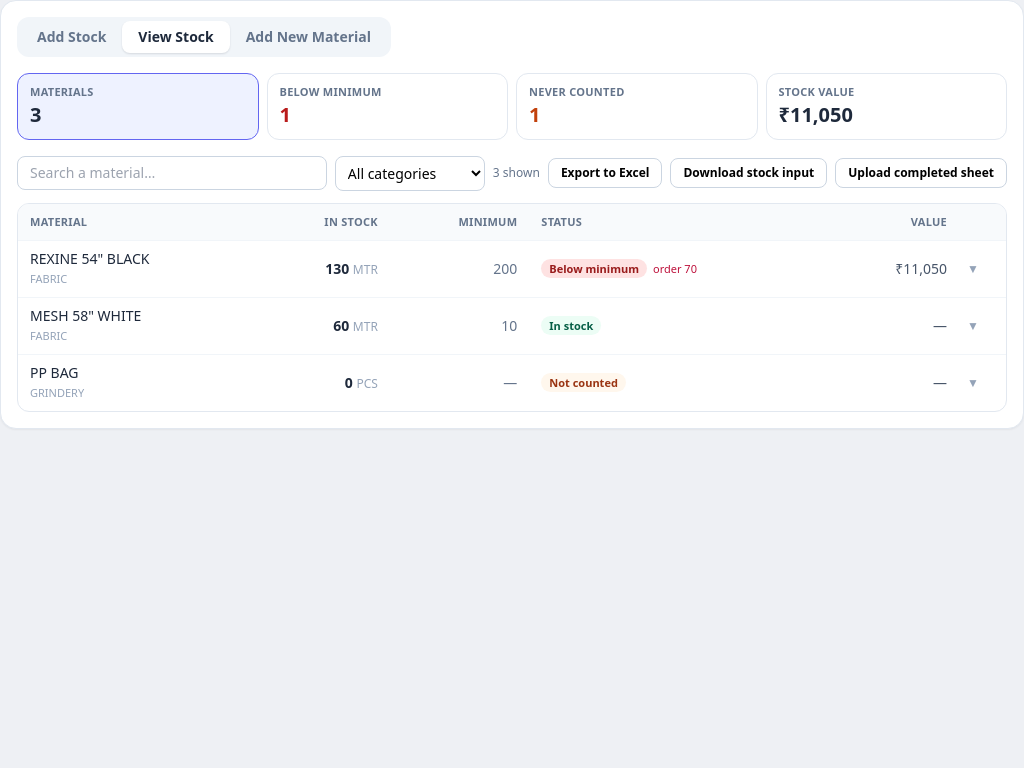
offers to add a material the search cannot find
The image size is (1024, 768).
Step 1. Click the tab "Add Stock" → [72, 37], box [21, 21, 122, 53]
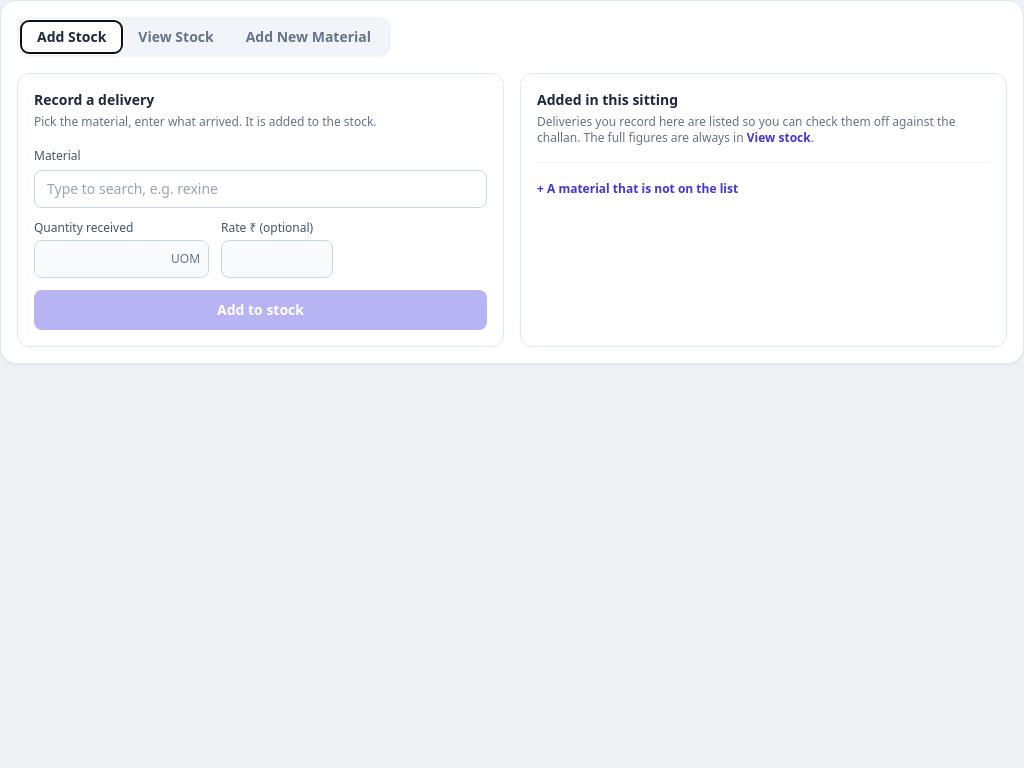
Step 2. Type "velcro 25mm" into the field named "Material to receive" → [260, 189], box [34, 170, 487, 208]
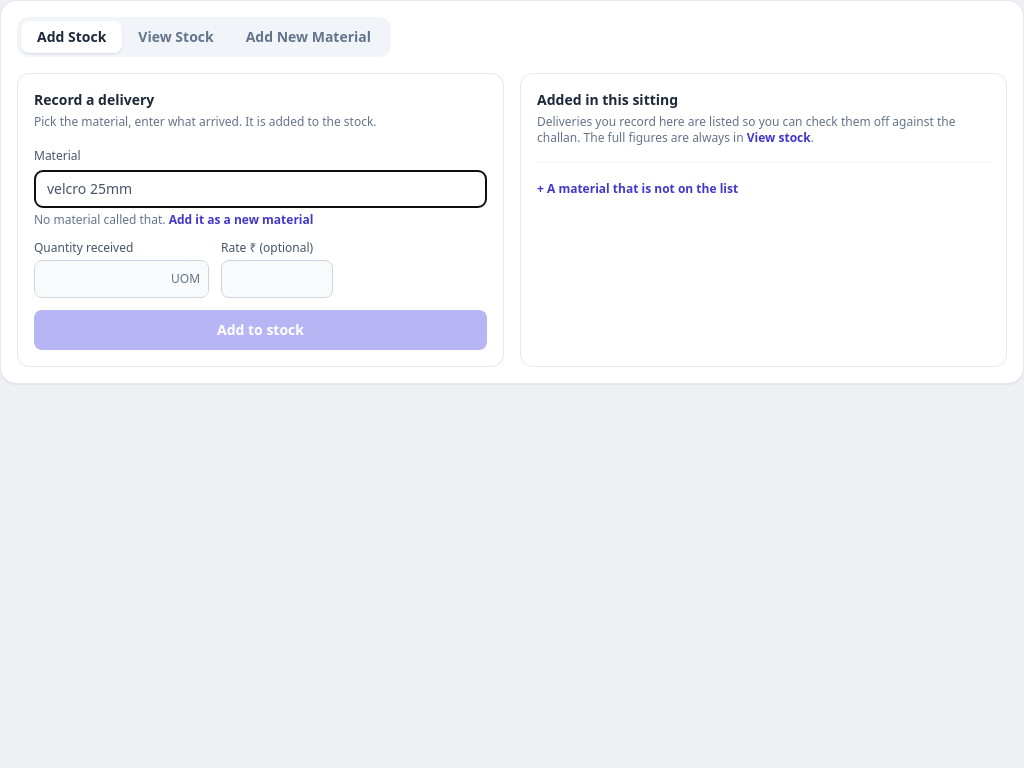
Step 3. Click the button "Add it as a new material" → [241, 220], box [169, 212, 314, 228]
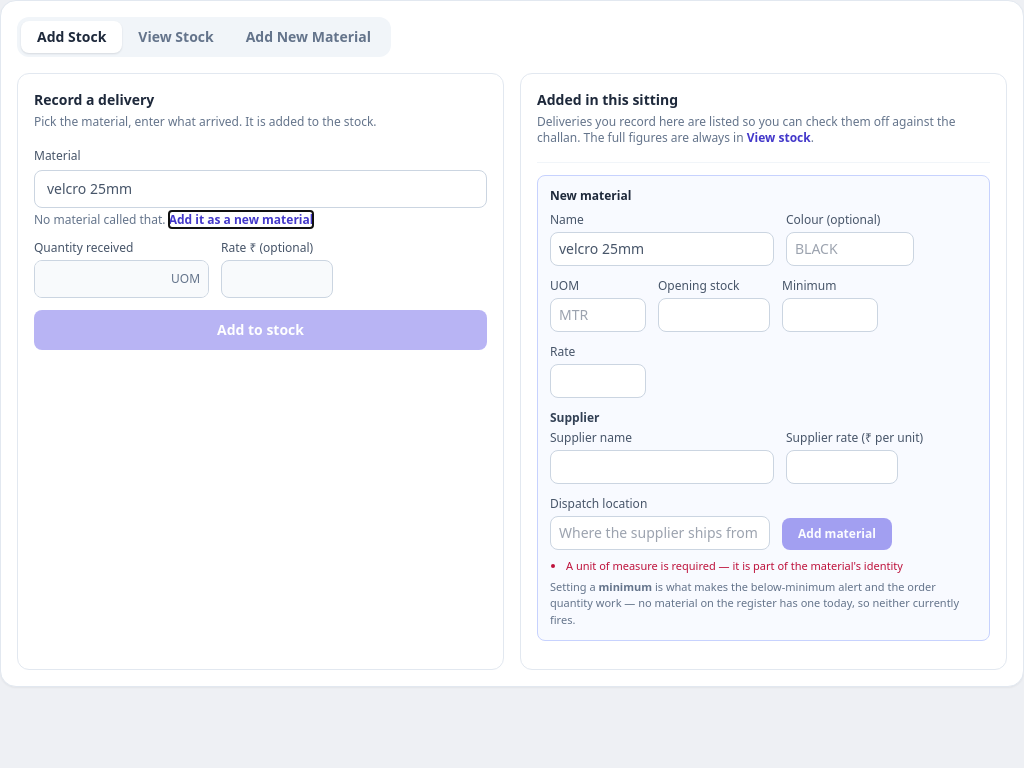
Now the field named "Material name" holds "velcro 25mm", box [550, 232, 774, 266]
